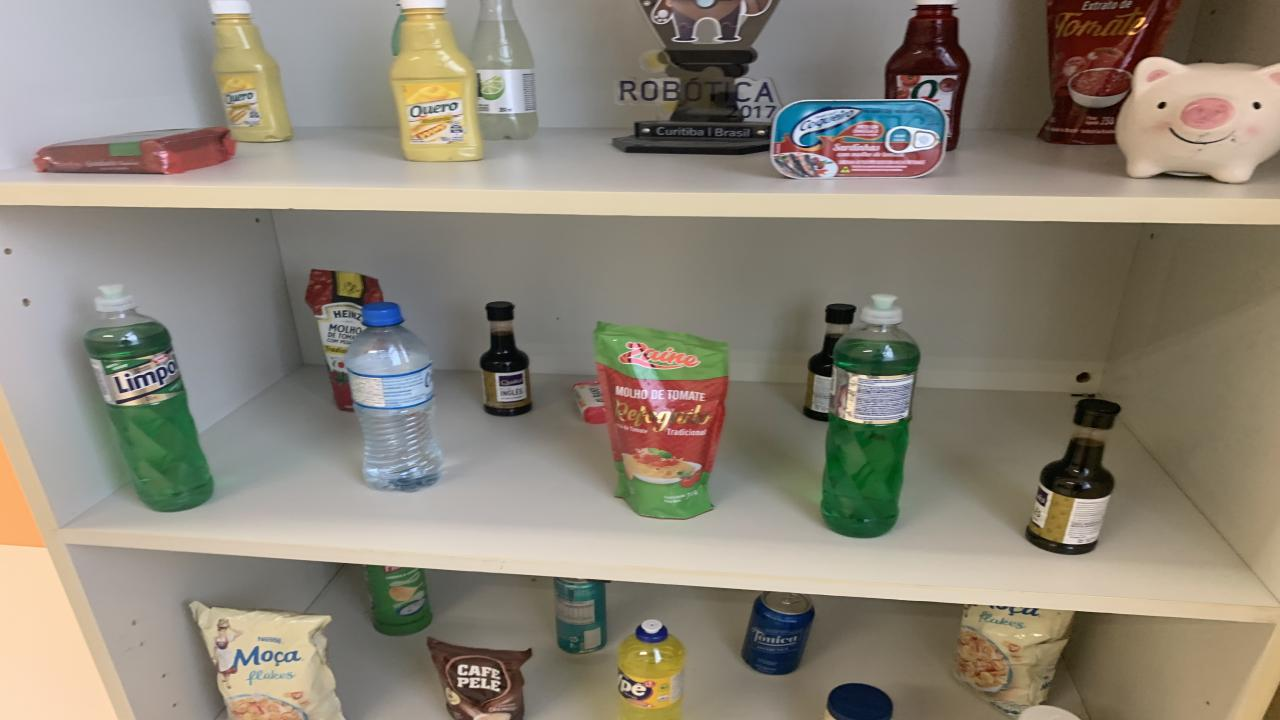Coffee-Pantry_Items: (428, 638, 530, 718)
Detergent-Cleanup_Items: (85, 285, 212, 512), (820, 294, 920, 538), (618, 619, 685, 718)
English_Sauce-Pantry_Items: (1025, 398, 1120, 555), (480, 302, 532, 416), (805, 304, 855, 422)
Flakes-Snacks: (190, 602, 342, 720), (955, 606, 1075, 716)
Guava-Snacks: (32, 128, 235, 174)
Ketchup-Pantry_Items: (885, 0, 970, 150)
Mayonnaise-Pantry_Items: (825, 682, 892, 720)
Mustard-Pantry_Items: (390, 0, 482, 161), (212, 4, 292, 142)
Pig_Safe-Miscellaneous: (1115, 56, 1280, 184)
Pringles-Snacks: (365, 566, 432, 636)
Soap-Cleanup_Items: (572, 382, 605, 424)
Soda-Drinks: (470, 0, 538, 139)
Tea-Drinks: (555, 578, 608, 654)
Tomato_Sauce-Pantry_Items: (595, 322, 728, 519), (1038, 0, 1180, 144), (305, 270, 382, 411)
Tonic-Drinks: (740, 592, 815, 675)
Trophy-Miscellaneous: (612, 0, 778, 154)
Tuna_Can-Pantry_Items: (770, 99, 950, 178)
Water_Bottle-Drinks: (345, 302, 442, 491)
